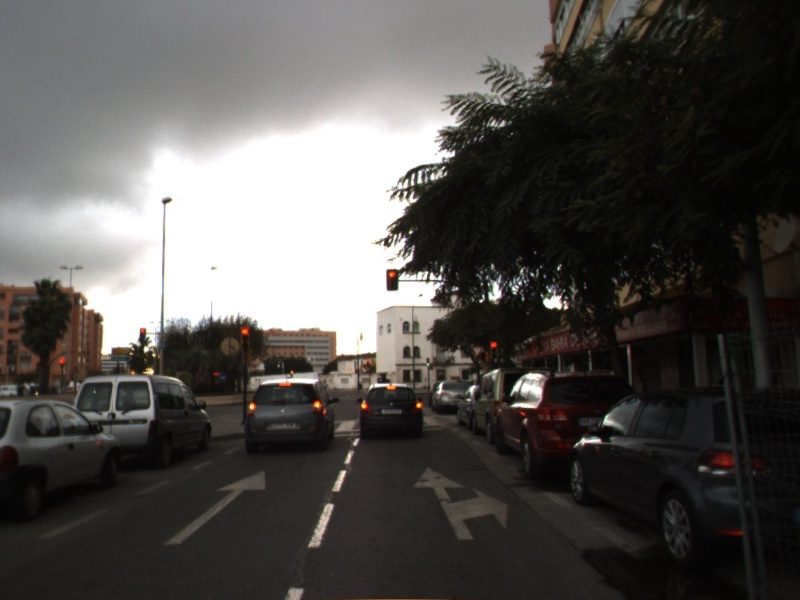STRAIGHT: (163, 469, 267, 546)
STRAIGHT_RIGHT: (411, 465, 509, 542)
